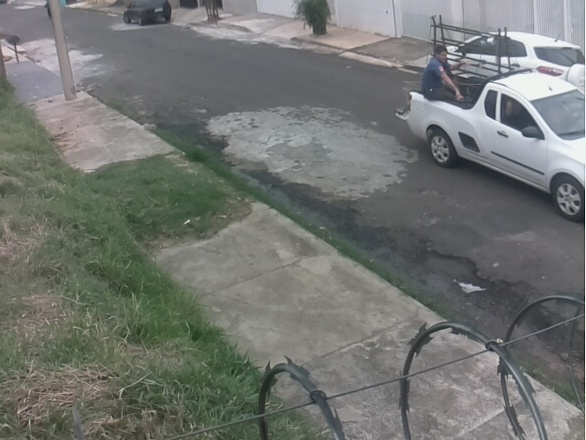person: (421, 44, 468, 101)
